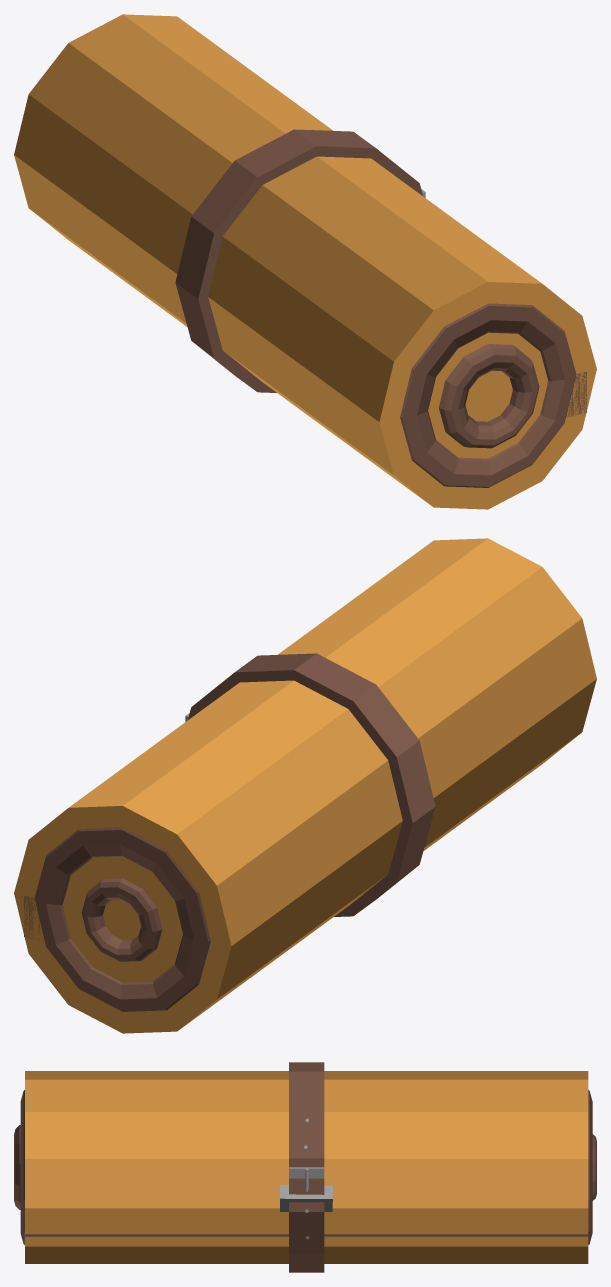
File: saco-de-dormir.glb
3 views of the same model, one above another, from view 1: azimuth 30°, elevation 25°; view 2: azimuth 150°, elevation 25°; view 3: azimuth 270°, elevation 25° (orthographic). The views are drawn at different scales.
Parts seen in each view (by area): view 1: Node; view 2: Node; view 3: Node.
Part boxes in pixels (left/top/right/bottom): Node: left=14, top=14, right=596, bottom=509; Node: left=14, top=538, right=596, bottom=1033; Node: left=14, top=1062, right=596, bottom=1272.
Size of the model in its own units: 0.1203 by 0.12 by 0.3312.
